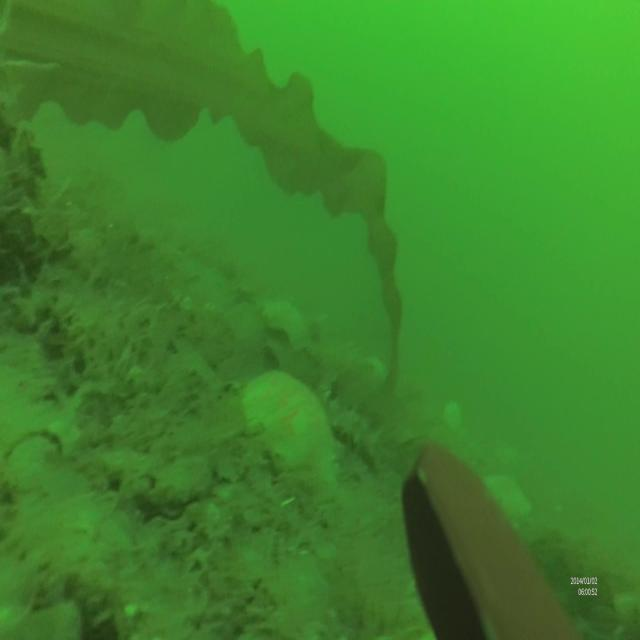starfish: (240, 367, 340, 484), (260, 294, 309, 352)
